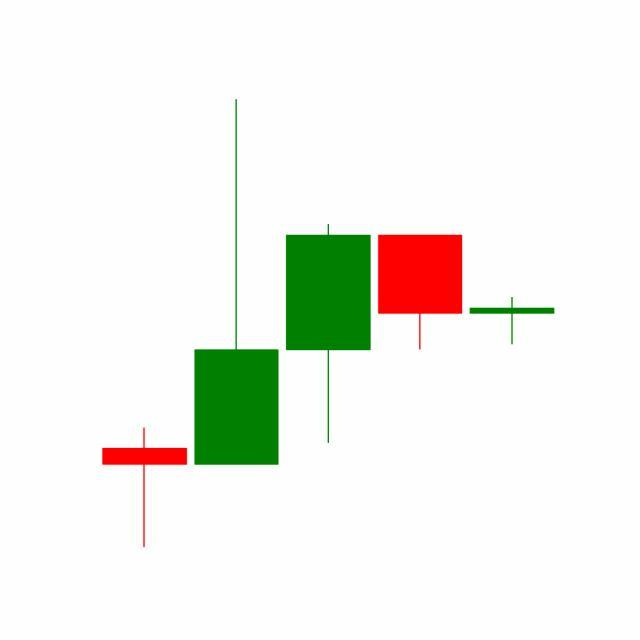Dragonfly Doji: (466, 297, 559, 346)
